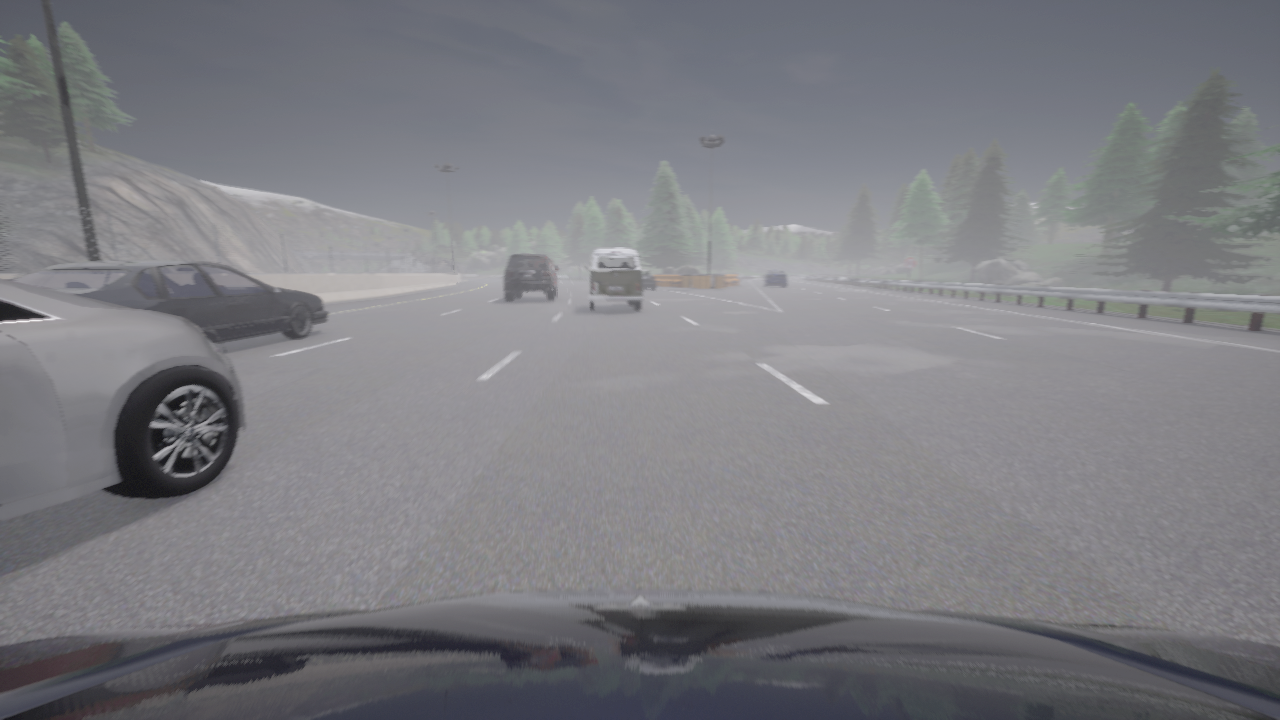cyclist: (0, 588, 1279, 719), (8, 260, 327, 341), (584, 247, 642, 310), (504, 254, 558, 300), (763, 270, 786, 286), (641, 270, 655, 289), (550, 260, 552, 266)
